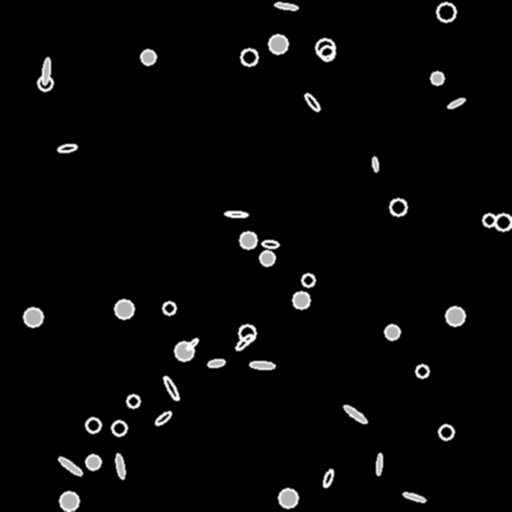pseudomonas: (57, 455, 83, 477), (342, 404, 368, 424), (162, 375, 180, 401), (303, 92, 321, 112), (235, 333, 253, 351), (114, 454, 126, 478), (402, 491, 426, 503), (154, 410, 172, 426), (321, 468, 335, 488), (41, 58, 51, 84), (447, 97, 465, 109), (249, 361, 275, 369), (57, 143, 77, 153), (185, 337, 199, 351), (274, 2, 298, 10), (224, 211, 248, 217), (207, 359, 225, 367), (371, 156, 379, 172), (262, 240, 278, 248), (376, 454, 382, 474)
synechocystis: (279, 489, 297, 507), (175, 342, 193, 360), (437, 3, 455, 21), (60, 492, 78, 510), (316, 39, 334, 57), (446, 307, 464, 325), (269, 35, 287, 53), (24, 308, 42, 326), (115, 300, 133, 318), (390, 199, 406, 215), (239, 325, 255, 341), (293, 292, 309, 308), (240, 232, 256, 248), (241, 49, 257, 65), (495, 214, 511, 230), (86, 418, 100, 432), (320, 46, 334, 60), (385, 325, 399, 339), (141, 50, 155, 64), (112, 421, 126, 435), (439, 425, 453, 439), (260, 251, 274, 265), (86, 455, 100, 469), (38, 76, 52, 90), (416, 365, 428, 377), (127, 395, 139, 407), (302, 274, 314, 286), (163, 302, 175, 314), (483, 214, 495, 226), (431, 72, 443, 84)
